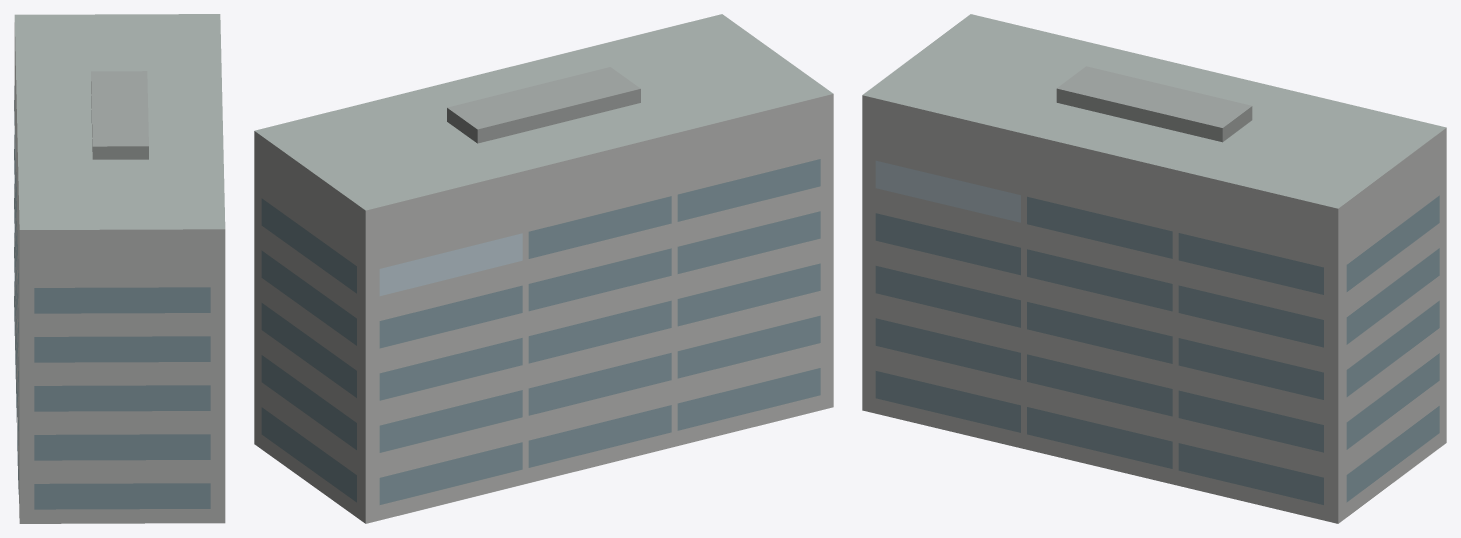
File: fallback-olympic-athletes-village-210.glb
The picture shows the model from 3 angles, left to right: view 1: azimuth 30°, elevation 25°; view 2: azimuth 150°, elevation 25°; view 3: azimuth 270°, elevation 25°; orthographic projection. The views are drawn at different scales.
Parts seen in each view (by area): view 1: fallback-olympic-athletes-village-210; view 2: fallback-olympic-athletes-village-210; view 3: fallback-olympic-athletes-village-210.
Part boxes in pixels (x1,y1,x2,y2): fallback-olympic-athletes-village-210: [14, 14, 225, 523]; fallback-olympic-athletes-village-210: [254, 14, 833, 523]; fallback-olympic-athletes-village-210: [862, 14, 1446, 523].
Bounding box in the file's own units: 24.25 × 19.12 × 30.76.
